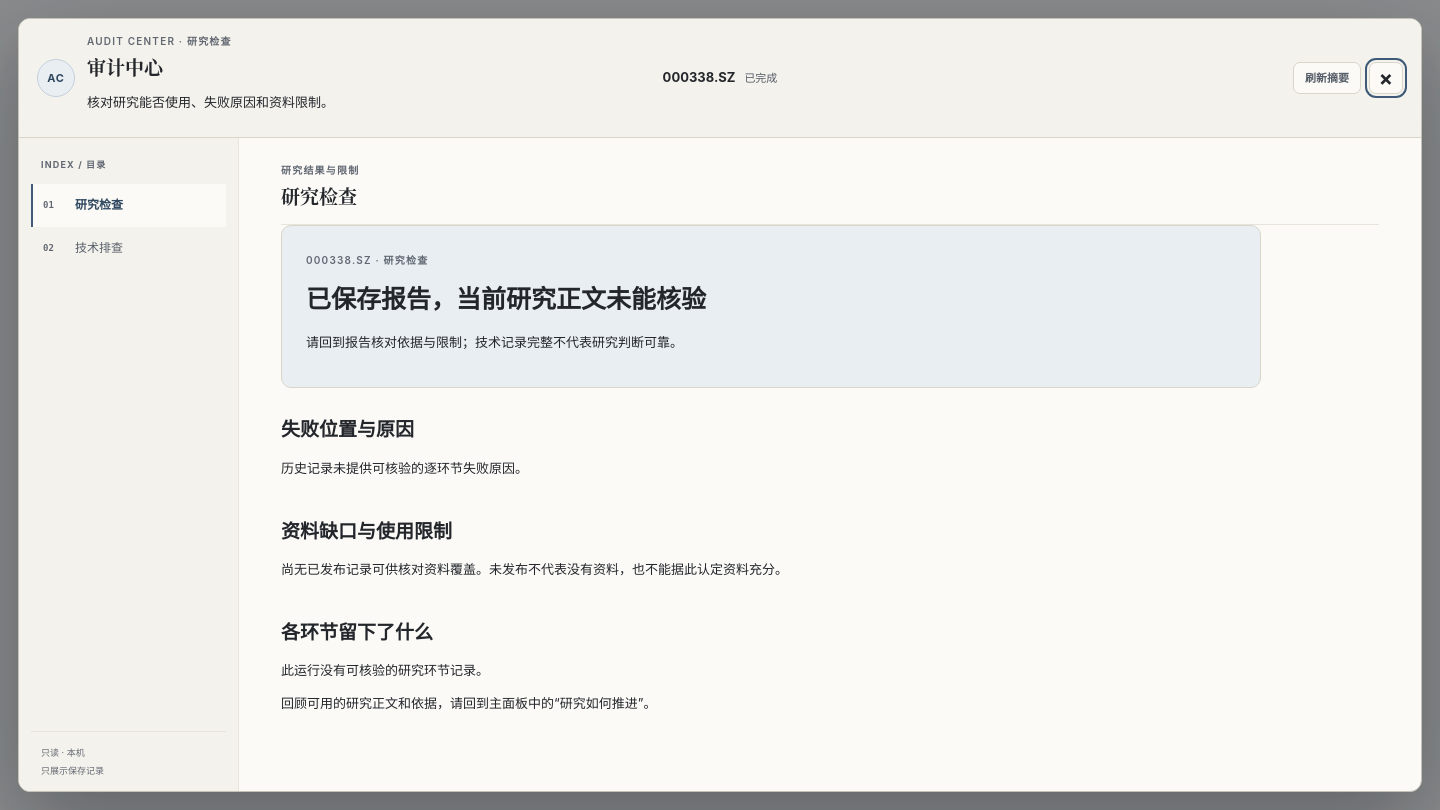
AuditCenter › opens research checks first and keeps technical sections behind an explicit entry
The image size is (1440, 810).
Expected: the button "Prompt 与配置" is not shown
Expected: the heading "已保存报告，当前研究正文未能核验" is shown, [306,284,706,314]
What coordinates should you click on to do the following:
click the button "02 技术排查"
I would click on:
 (128, 248)
Its box is [31,226,226,270].
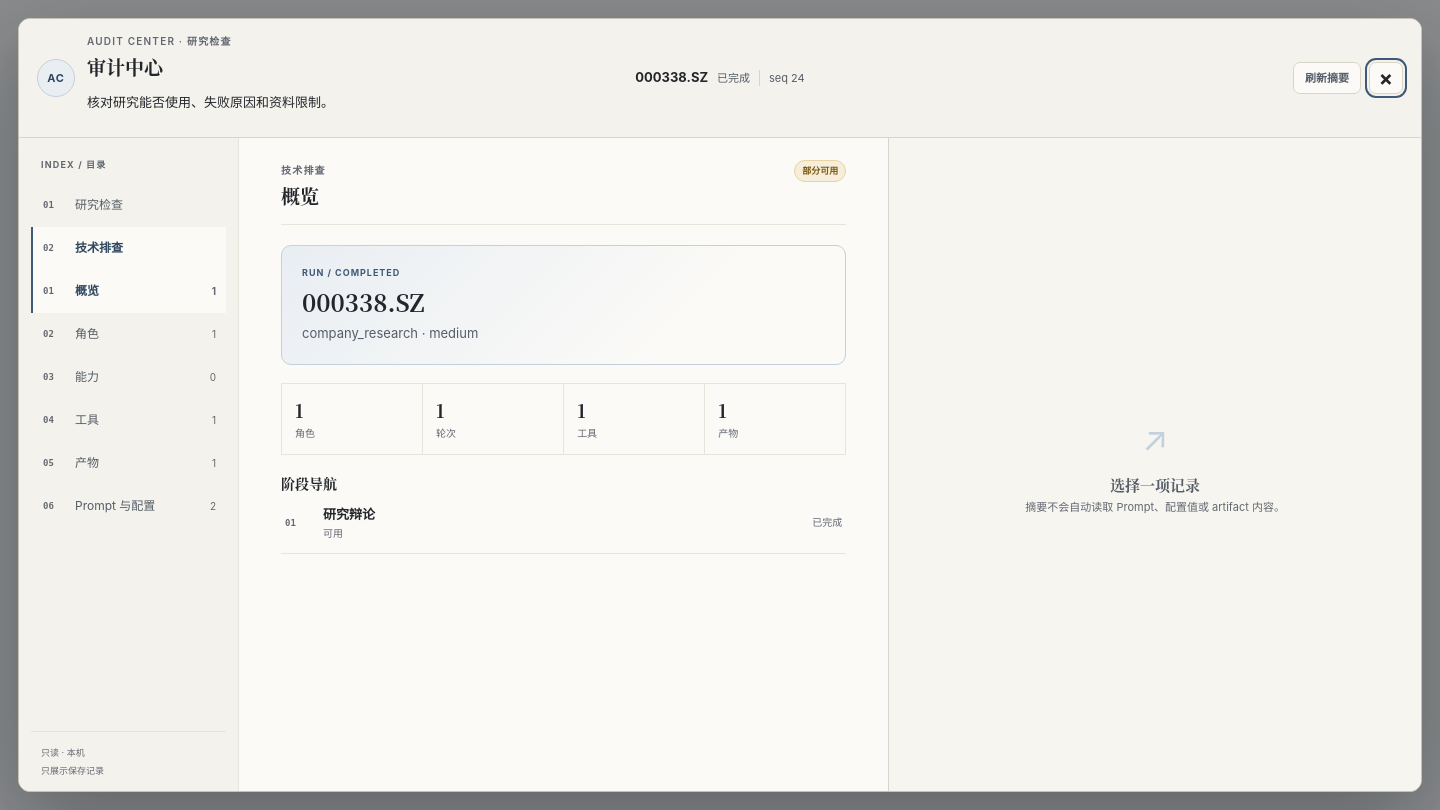
Expected: the number of buttons "01 概览 1" is 6, [31,270,226,312]; [31,312,226,356]; [31,356,226,398]; [31,398,226,442]; [31,442,226,484]; [31,484,226,528]
